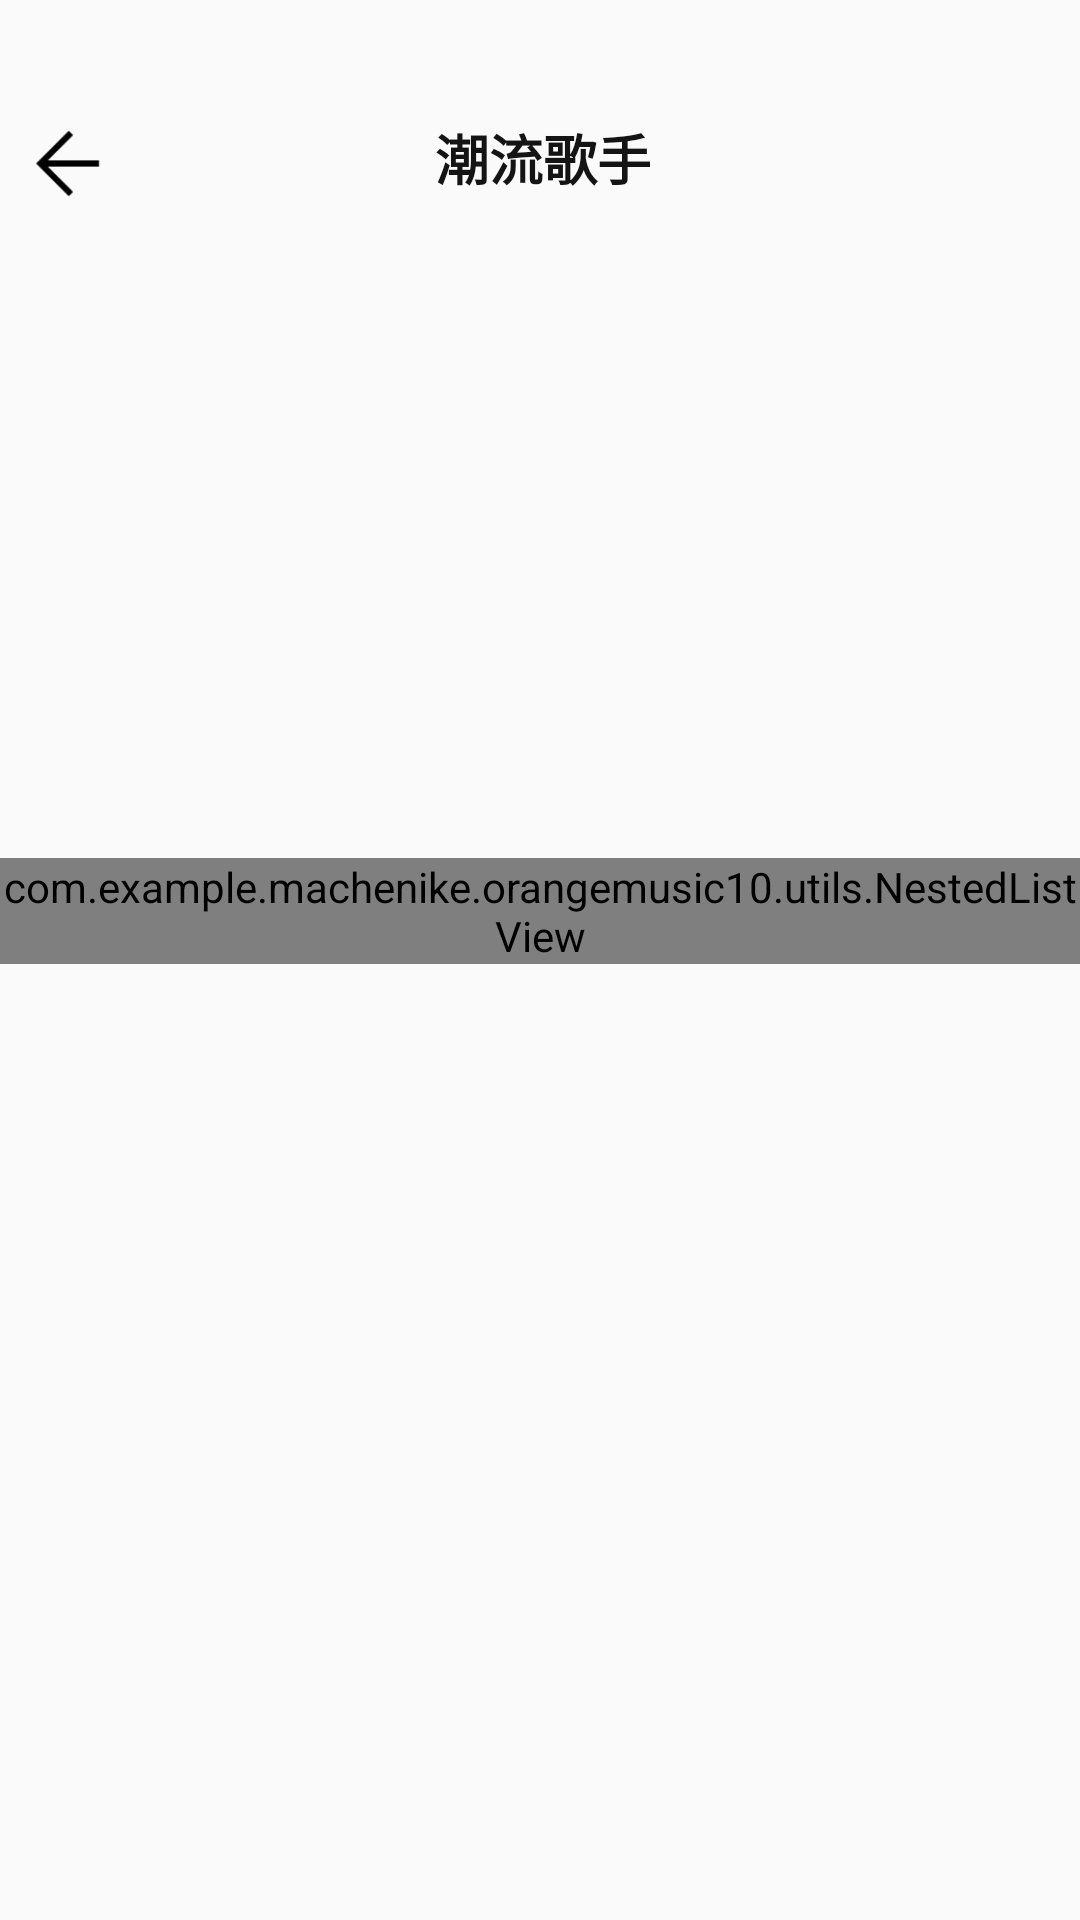

Named icons in this screenshot (1080x1920) and their centers, (x=x, y=y):
back: (x=68, y=163)
